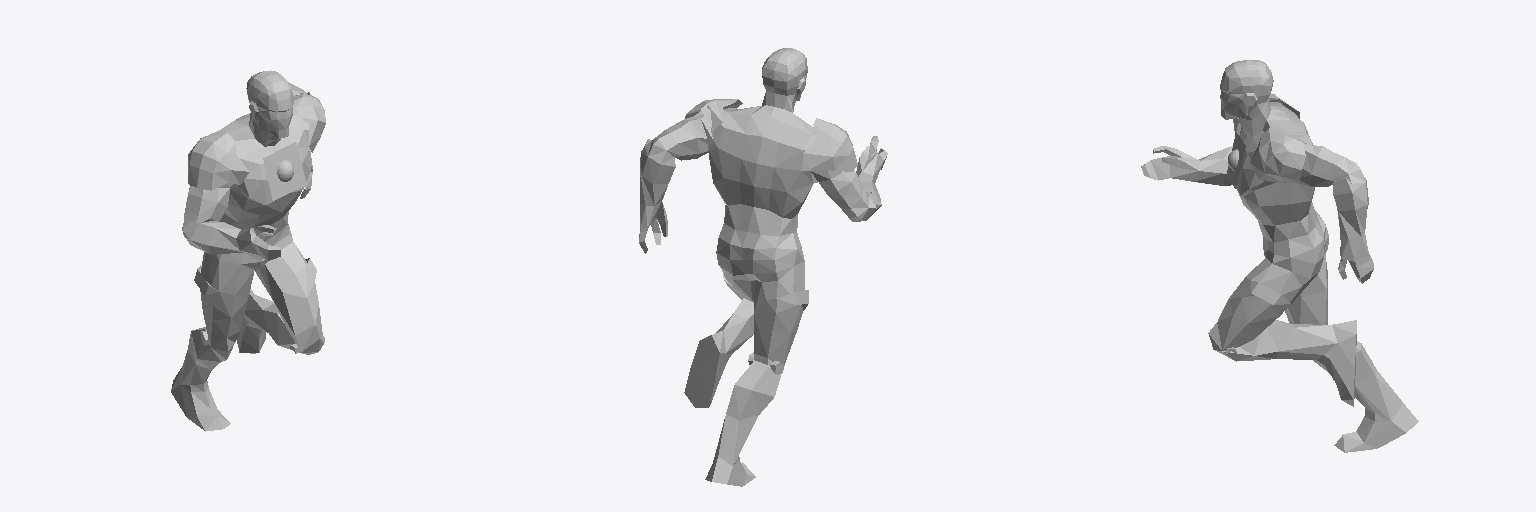
Rendered from running48.obj.
3 views of the same model, side by side, from view 1: azimuth 30°, elevation 25°; view 2: azimuth 150°, elevation 25°; view 3: azimuth 270°, elevation 25° (orthographic).
Parts seen in each view (by area): view 1: M-FF_iOS_HERO_Tony_Stark_Iron_Man_Classic; view 2: M-FF_iOS_HERO_Tony_Stark_Iron_Man_Classic; view 3: M-FF_iOS_HERO_Tony_Stark_Iron_Man_Classic.
Boxes of the visible parts, x1=… form: M-FF_iOS_HERO_Tony_Stark_Iron_Man_Classic: x1=171, y1=70, x2=325, y2=431; M-FF_iOS_HERO_Tony_Stark_Iron_Man_Classic: x1=639, y1=48, x2=887, y2=486; M-FF_iOS_HERO_Tony_Stark_Iron_Man_Classic: x1=1141, y1=60, x2=1418, y2=452.
Bounding box in the file's own units: 0.9306 × 1.89 × 1.23.